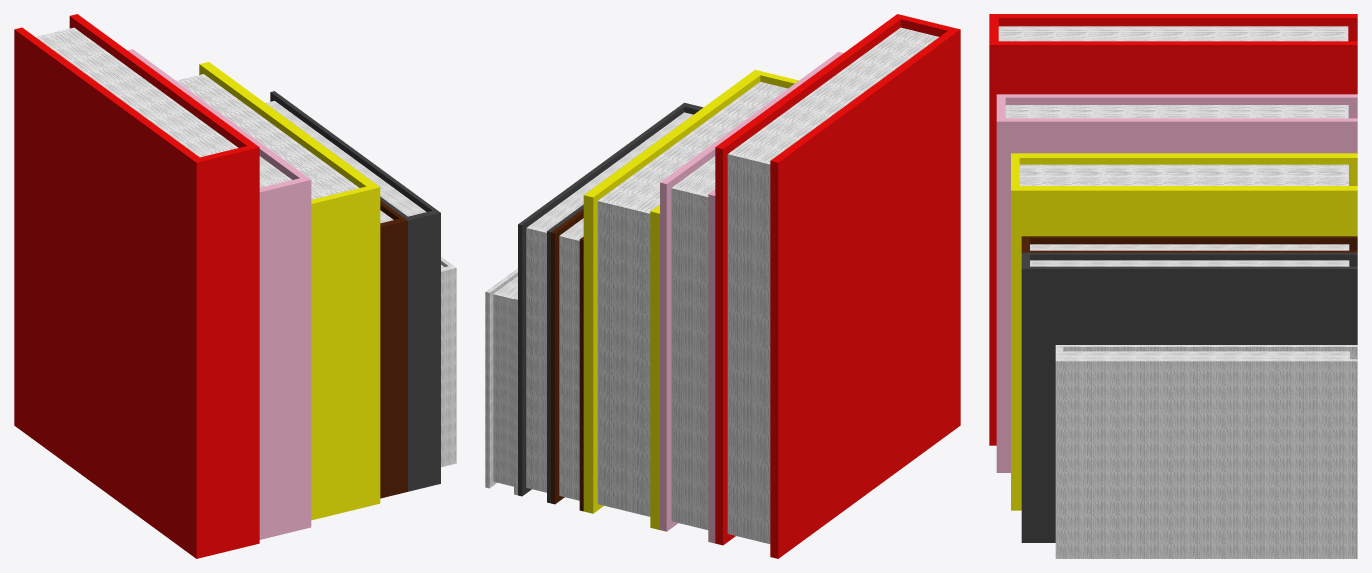
File: libros.obj
3 views of the same model, side by side, from view 1: azimuth 30°, elevation 25°; view 2: azimuth 150°, elevation 25°; view 3: azimuth 270°, elevation 25° (orthographic).
Parts seen in each view (by area): view 1: libros:libro3; view 2: libros:libro3; view 3: libros:libro3.
Part boxes in pixels (bbox=[...]): libros:libro3: bbox=[14, 14, 456, 558]; libros:libro3: bbox=[485, 14, 960, 558]; libros:libro3: bbox=[989, 14, 1357, 558].
Size of the model in its own units: 0.2687 by 0.3475 by 0.2896.
Materials: 6 (6 with a texture image).
